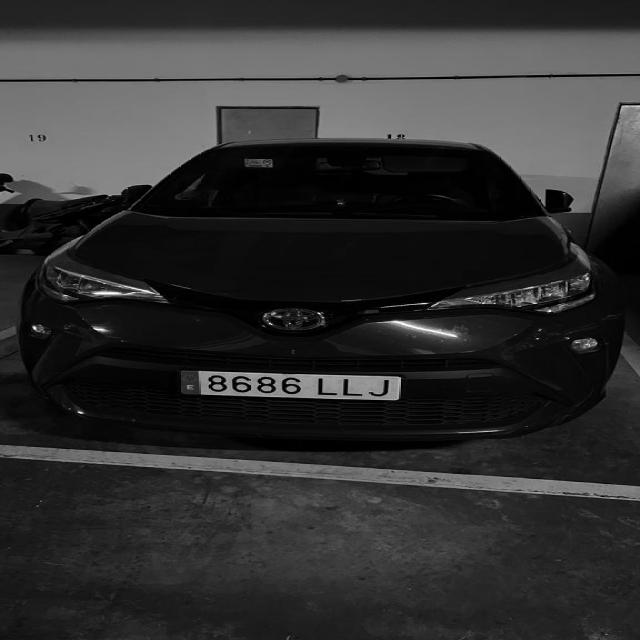License-Plate: (179, 366, 401, 406)
